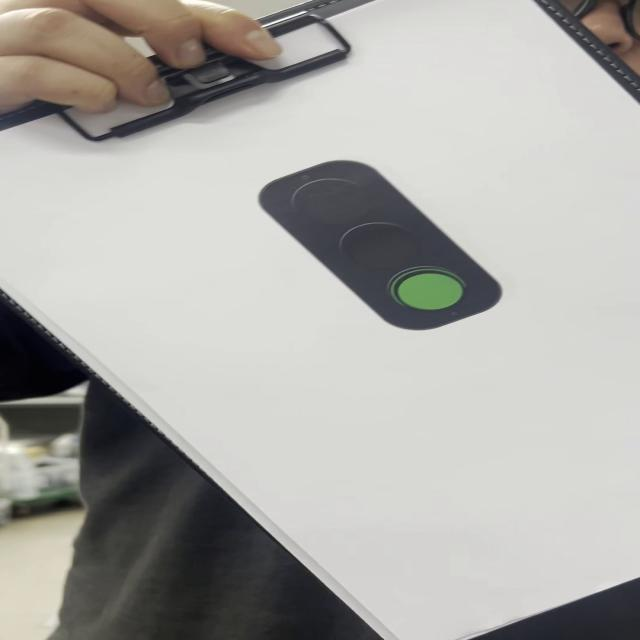green: (258, 159, 507, 333)
